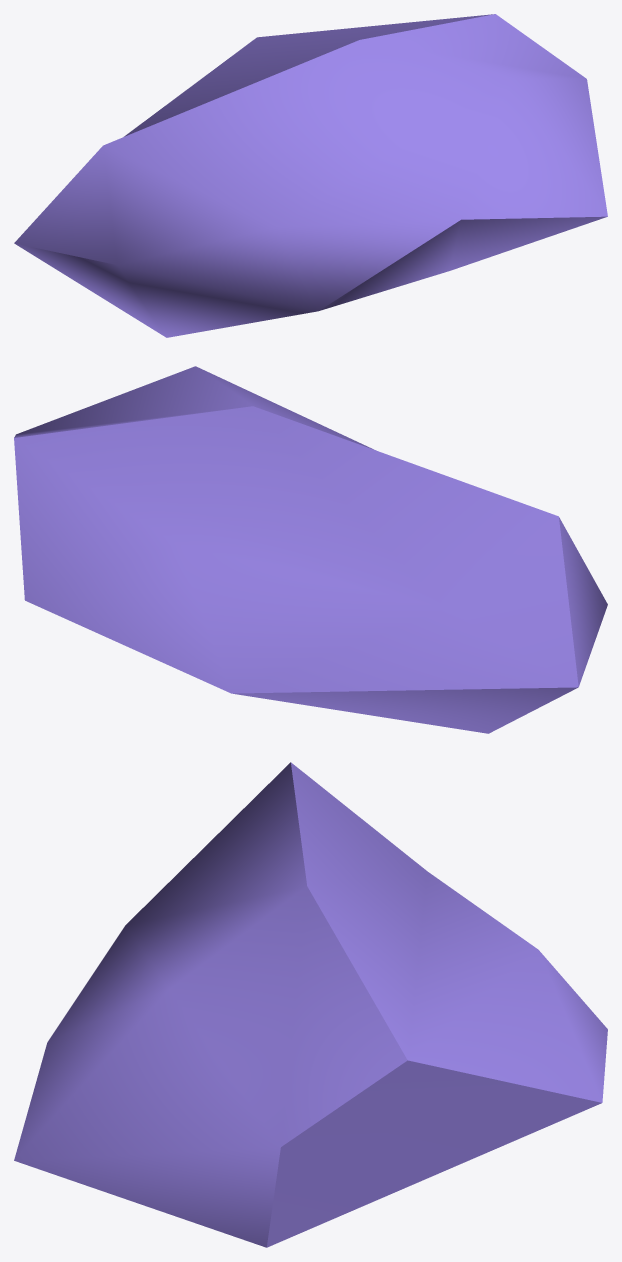
The model's file is flint.glb.
The picture shows the model from 3 angles, top to bottom: view 1: azimuth 30°, elevation 25°; view 2: azimuth 150°, elevation 25°; view 3: azimuth 270°, elevation 25°; orthographic projection. The views are drawn at different scales.
Parts seen in each view (by area): view 1: Icosphere; view 2: Icosphere; view 3: Icosphere.
Boxes of the visible parts, x1,y1,x2,y2 form: Icosphere: [14, 14, 607, 337]; Icosphere: [14, 366, 607, 733]; Icosphere: [14, 762, 607, 1247].
Bounding box in the file's own units: 0.2787 × 0.1218 × 0.1969.
